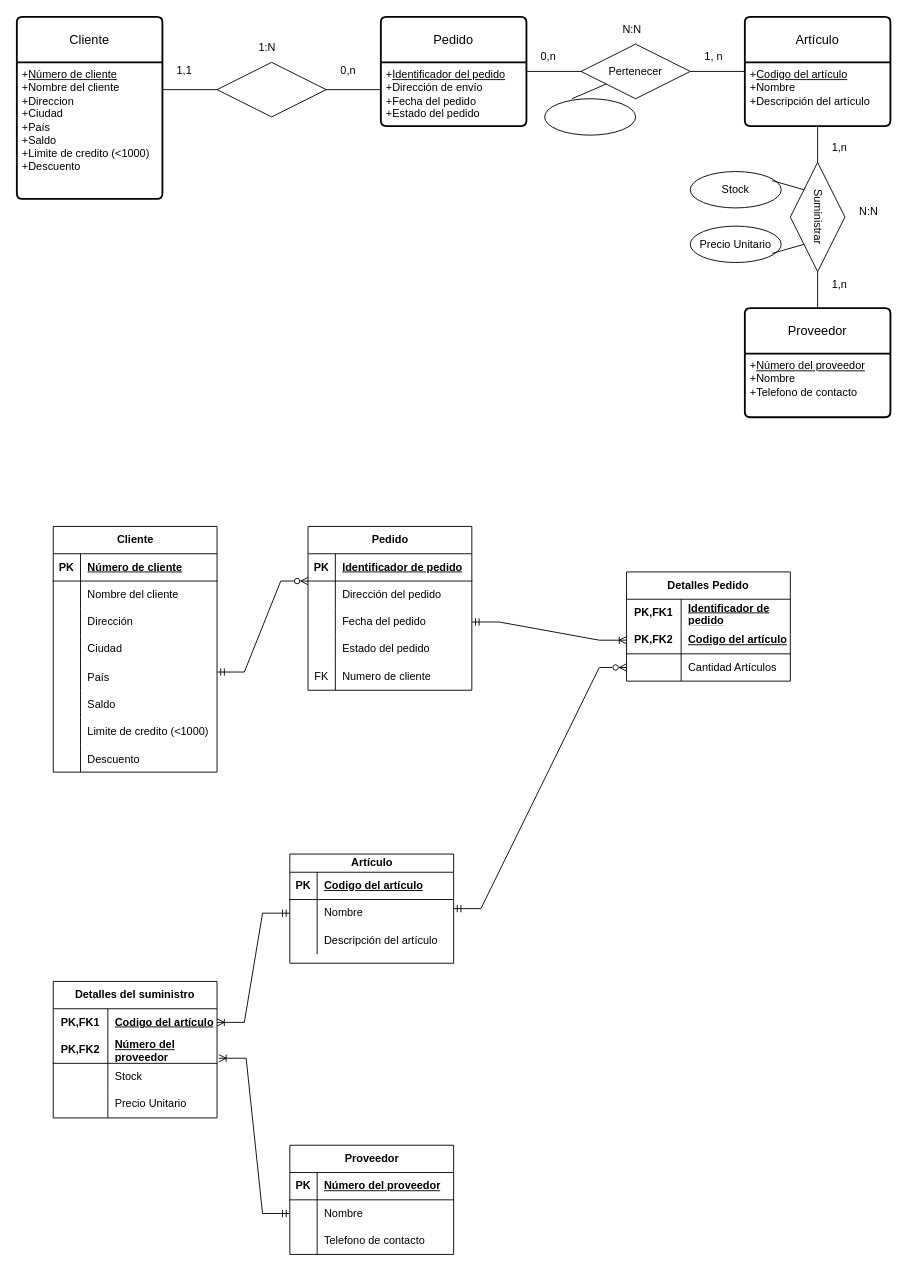
The diagram is 906 pixels wide and 1270 high, and some of its shapes have lost their labels. The centre of each missing label's shape, as x and y in pixels:
"Cantidad Articulos" belongs at (x=590, y=116).
"Hacer" belongs at (x=271, y=89).
